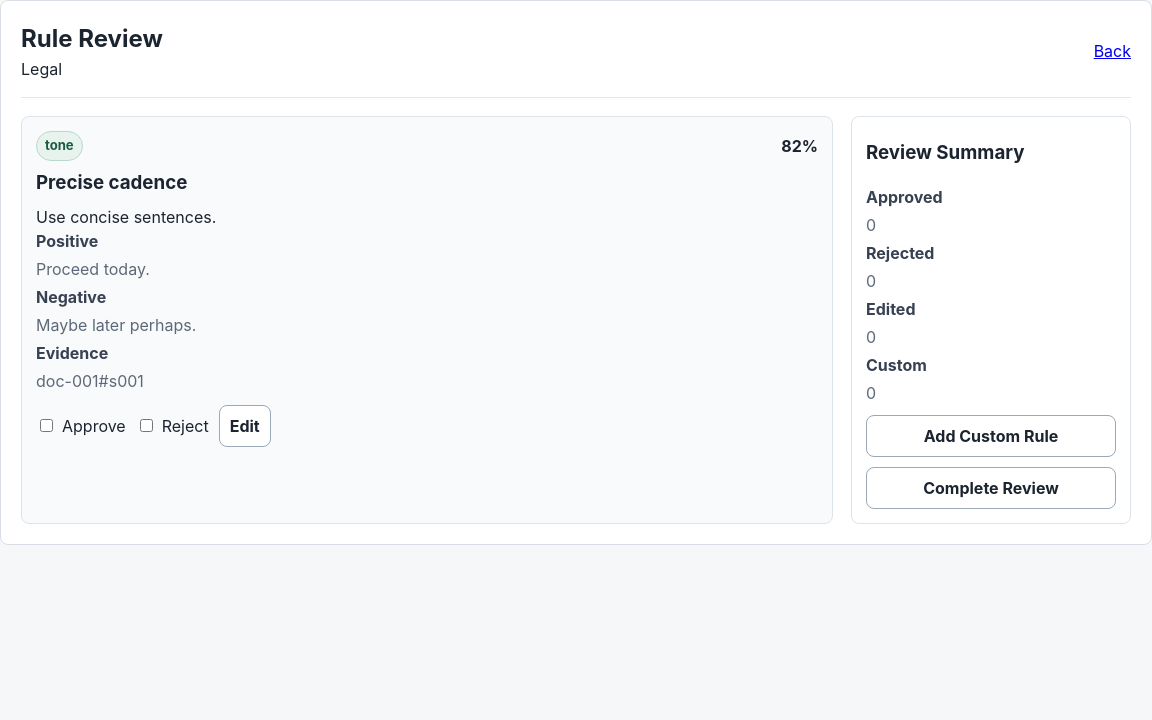
Scenario: RuleReviewPage › approve toggle works
Click the checkbox labelled "Approve" at (46, 426), box [40,419,53,432]
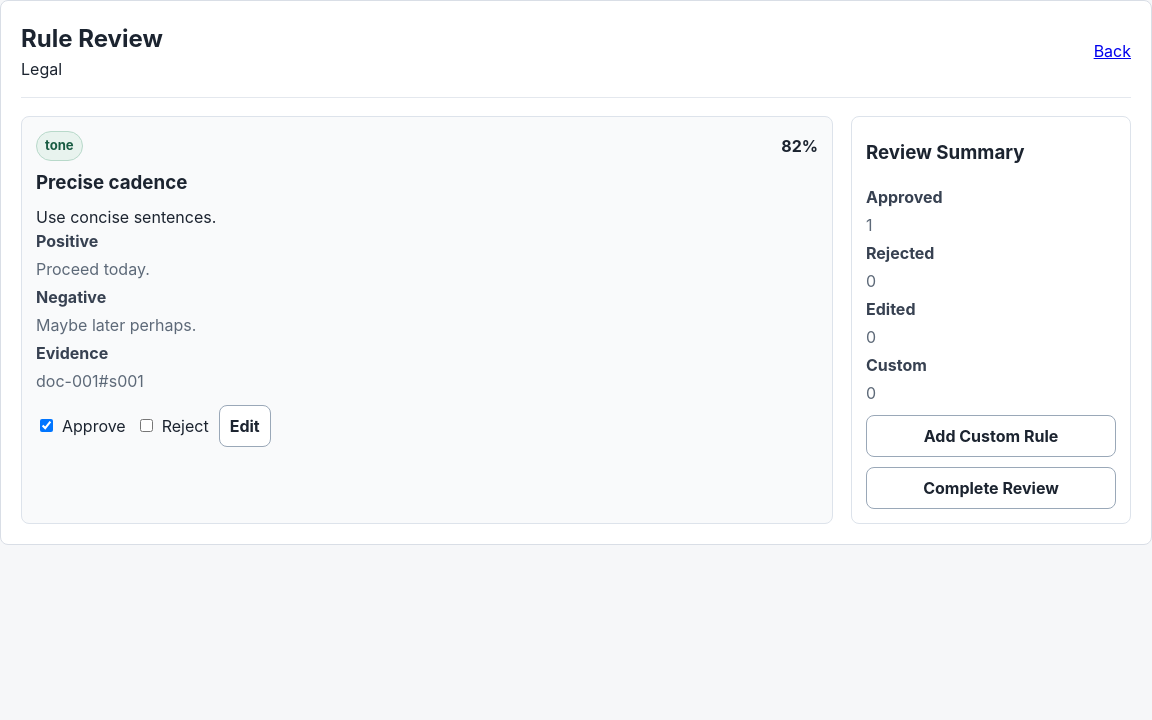
Expected: the text "Approved" is shown, [866,187,943,207]
Expected: the text "1" is shown, [866,215,872,235]
